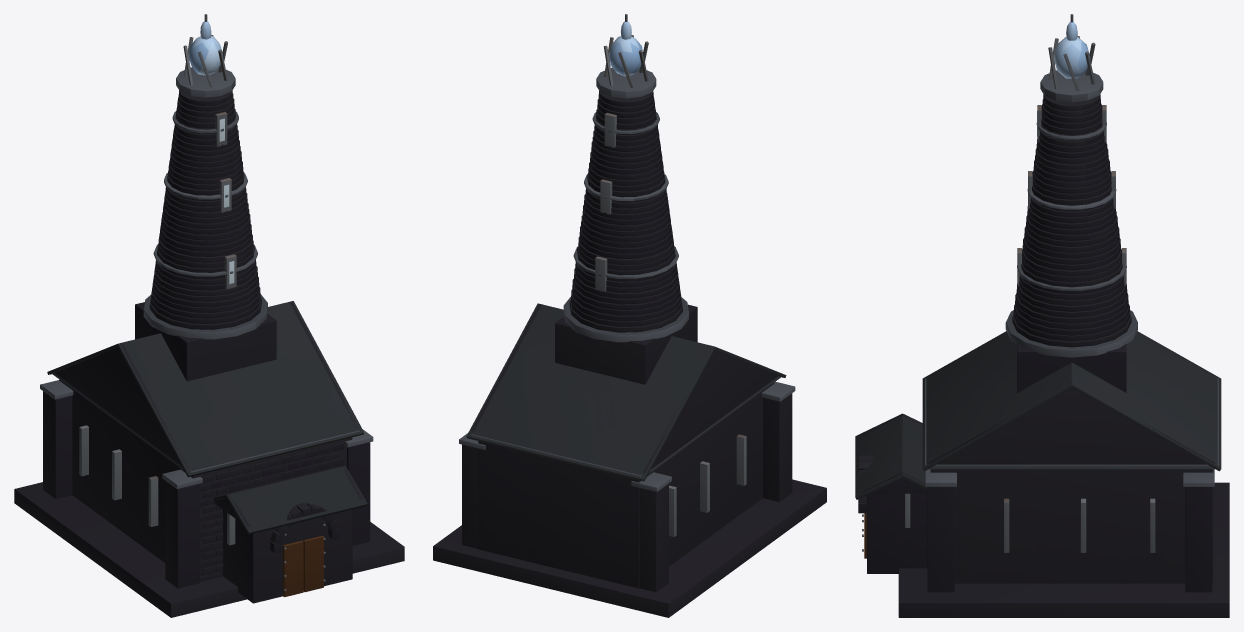
Rendered from building_high_temple.fbx.
3 views of the same model, side by side, from view 1: azimuth 30°, elevation 25°; view 2: azimuth 150°, elevation 25°; view 3: azimuth 270°, elevation 25° (orthographic). The views are drawn at different scales.
Parts seen in each view (by area): view 1: building_high_temple; view 2: building_high_temple; view 3: building_high_temple.
Part boxes in pixels (bbox=[...]): building_high_temple: bbox=[14, 14, 404, 617]; building_high_temple: bbox=[433, 14, 826, 617]; building_high_temple: bbox=[855, 14, 1229, 617].
Bounding box in the file's own units: 7.4 × 15.59 × 9.73.
